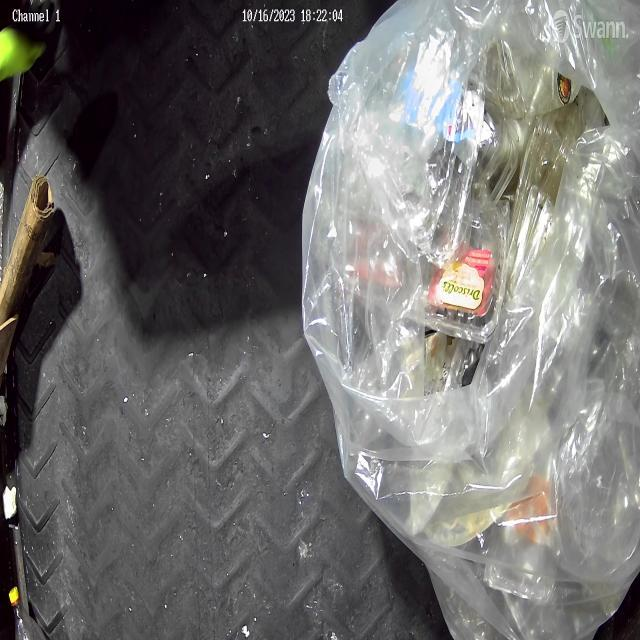plastic_bottle: (7, 588, 46, 640)
